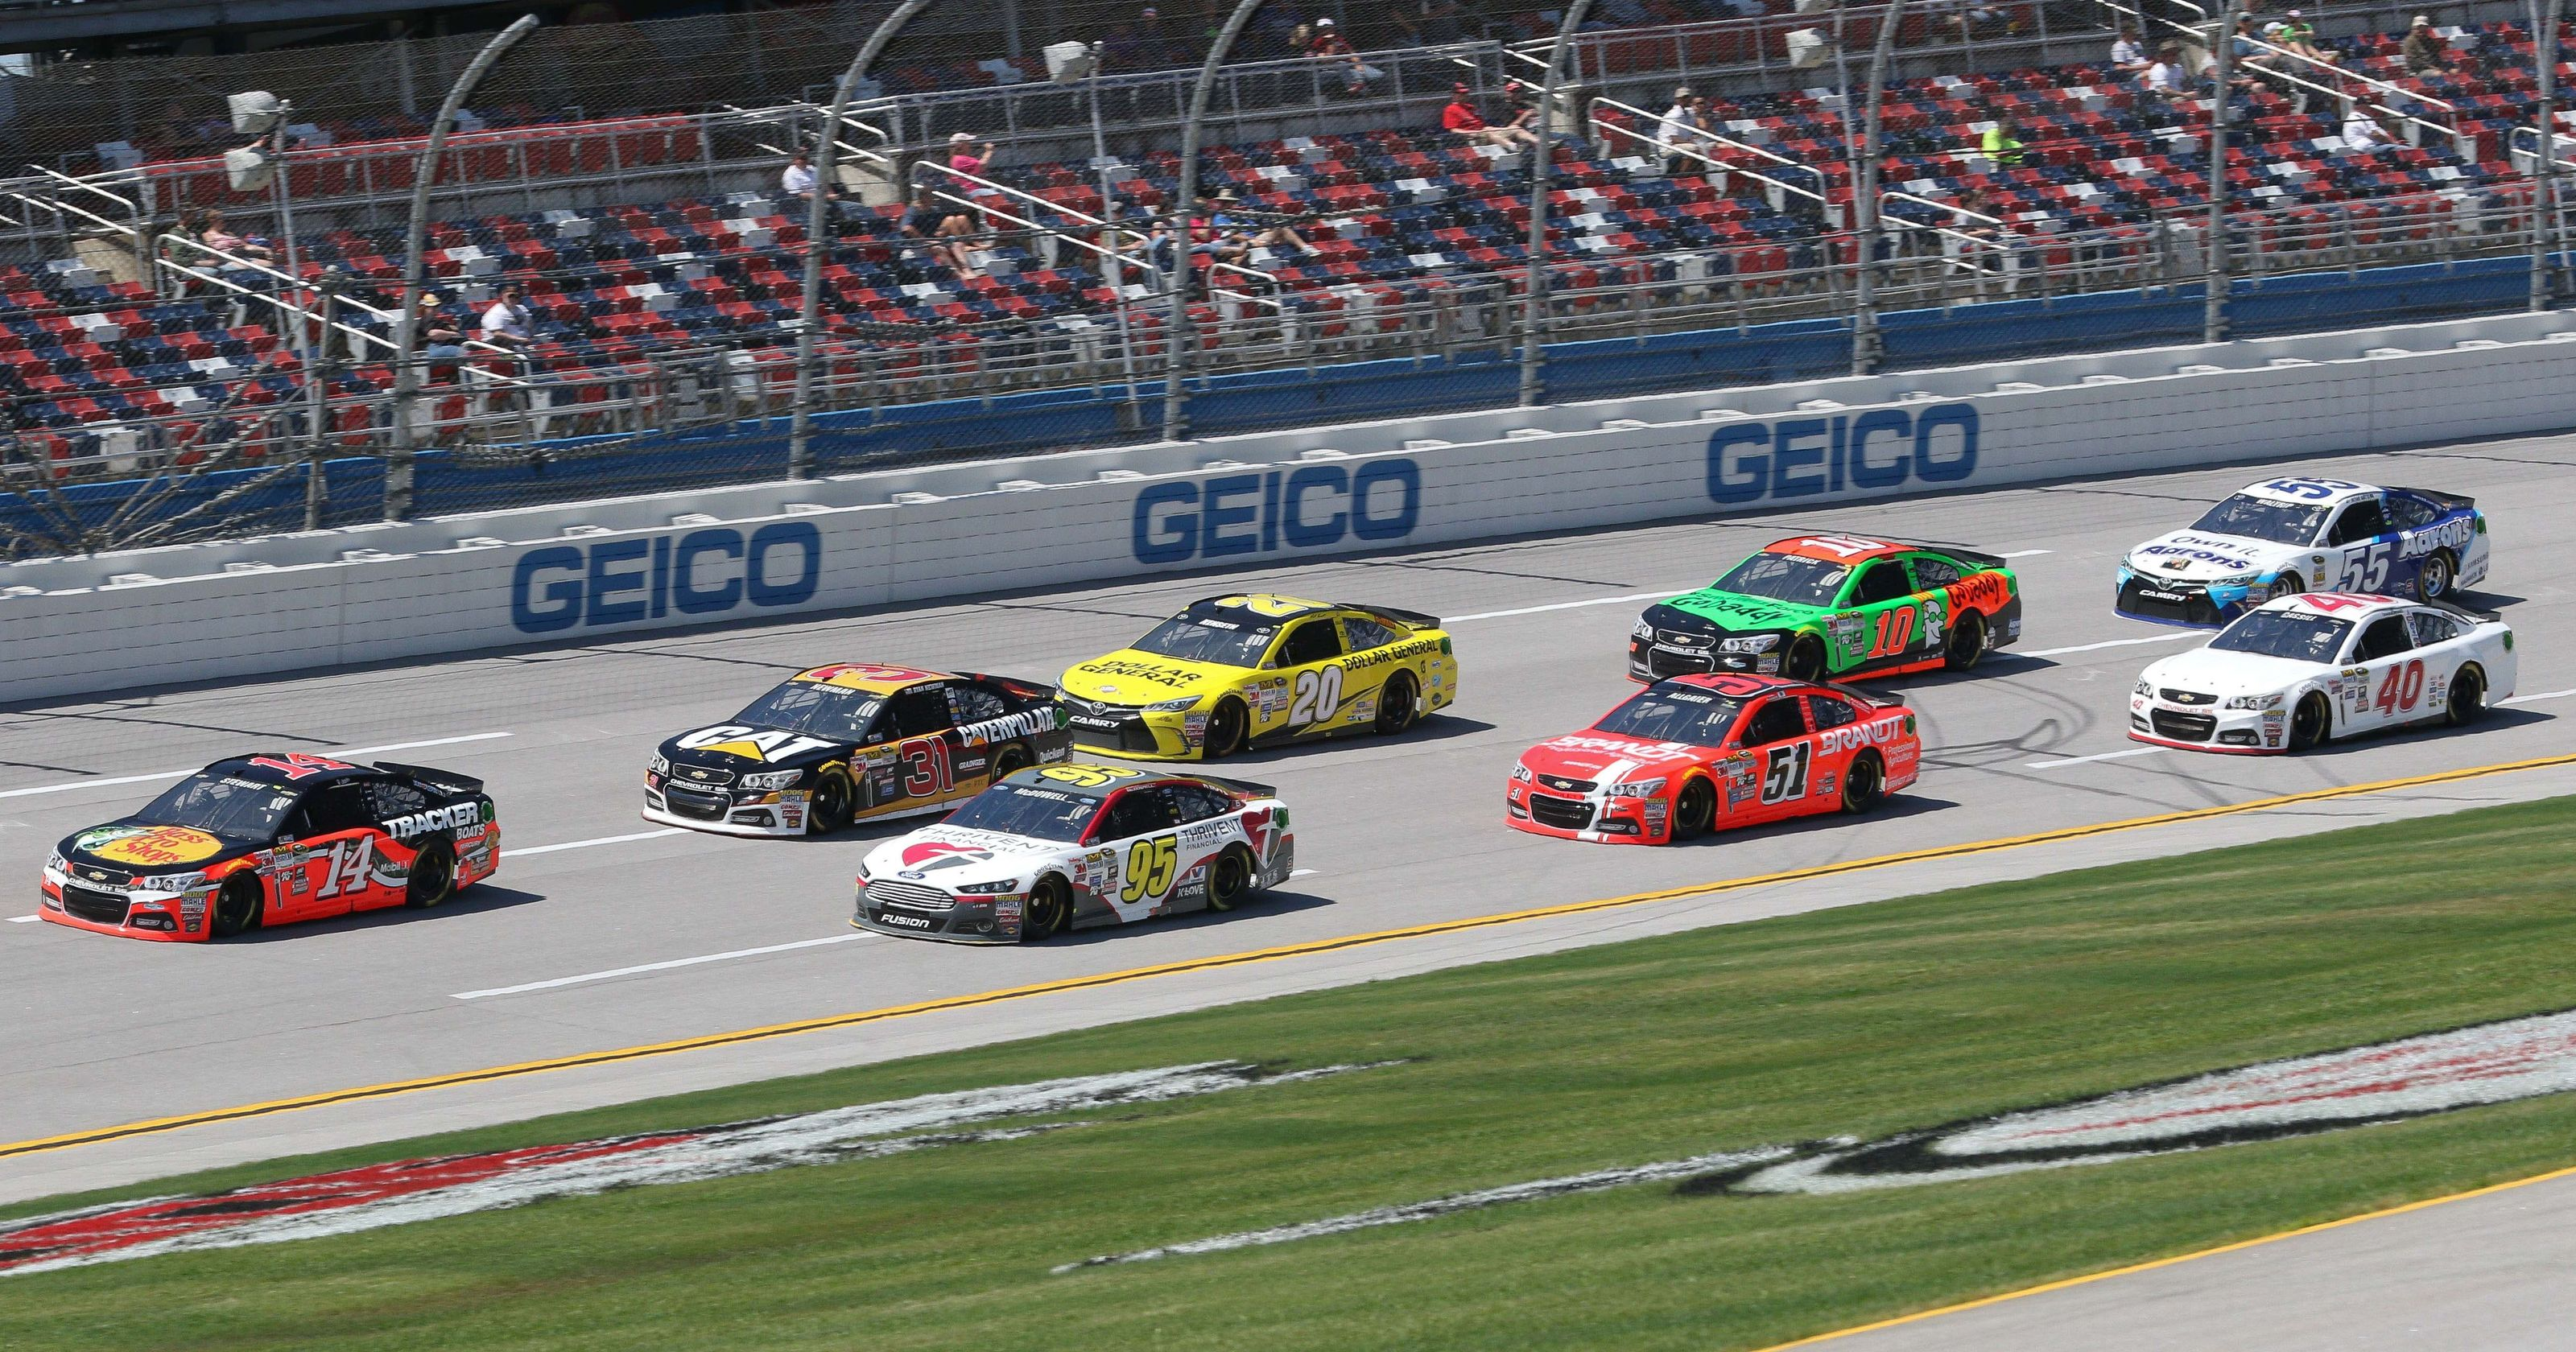Geico: (462, 366, 2060, 650)
